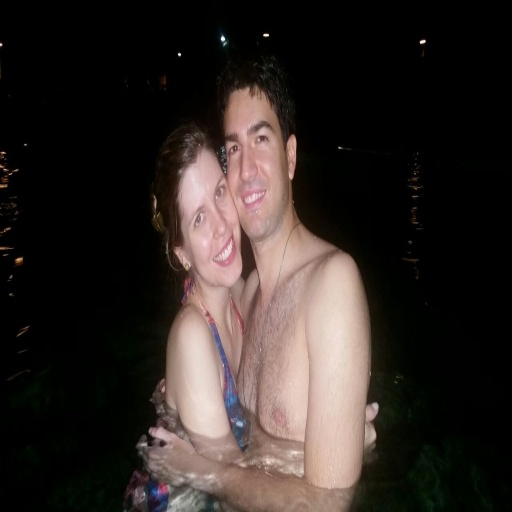hand: (137, 425, 190, 489), (364, 398, 378, 456)
